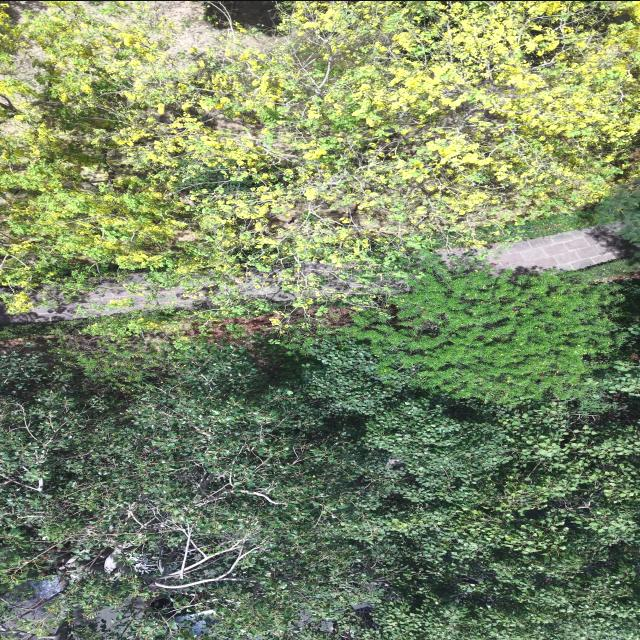DRY_AREA: (0, 263, 396, 324), (148, 1, 290, 69)
PATHWAYS: (0, 263, 400, 324), (484, 224, 636, 270)
VEGETATION_TREE: (0, 1, 639, 639), (2, 310, 637, 639), (0, 1, 639, 289), (2, 325, 387, 639), (345, 265, 620, 400)
